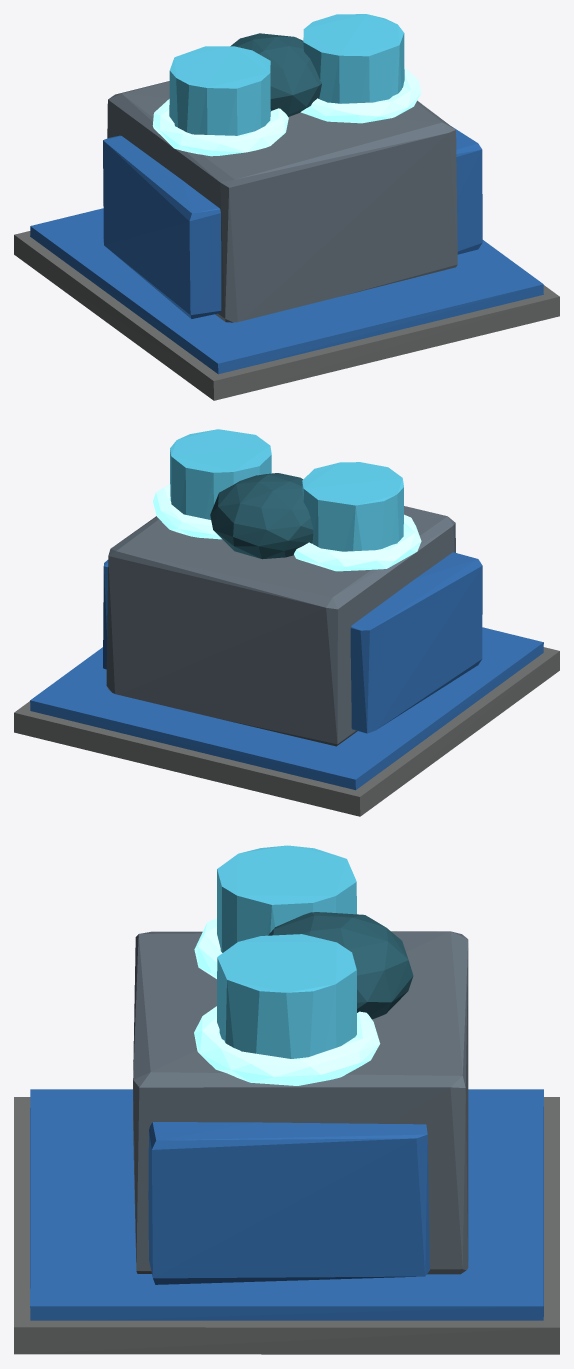
Rendered from SM_Alliance_AL_PowerPlant_LOD2.fbx.
The picture shows the model from 3 angles, top to bottom: view 1: azimuth 30°, elevation 25°; view 2: azimuth 150°, elevation 25°; view 3: azimuth 270°, elevation 25°; orthographic projection. The views are drawn at different scales.
Parts seen in each view (by area): view 1: LOD02_SM_Alliance_AL_PowerPlant; view 2: LOD02_SM_Alliance_AL_PowerPlant; view 3: LOD02_SM_Alliance_AL_PowerPlant.
Boxes of the visible parts, <box> form: LOD02_SM_Alliance_AL_PowerPlant: <box>14,14,559,400</box>; LOD02_SM_Alliance_AL_PowerPlant: <box>14,429,559,816</box>; LOD02_SM_Alliance_AL_PowerPlant: <box>14,845,559,1354</box>.
Size of the model in its own units: 597 by 597 by 386.
